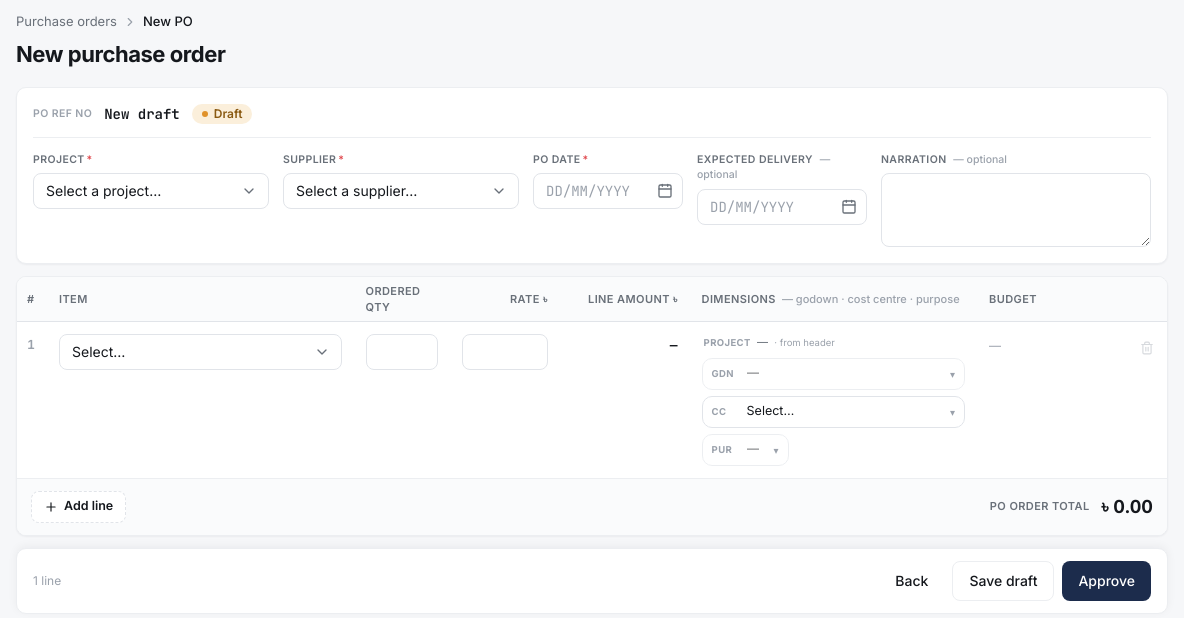
Test: PoEditor (spec §4.editor/§6/§7; FR-PUR-001/-002/-024) › live line-amount preview recomputes as qty × rate changes (spec §9)
expect the heading "New purchase order" is shown: met, box [16, 38, 226, 70]
Select "BR-04 — Bridge-04" in the dropdown with test id "po-project": x=151, y=191 [33, 173, 269, 209]
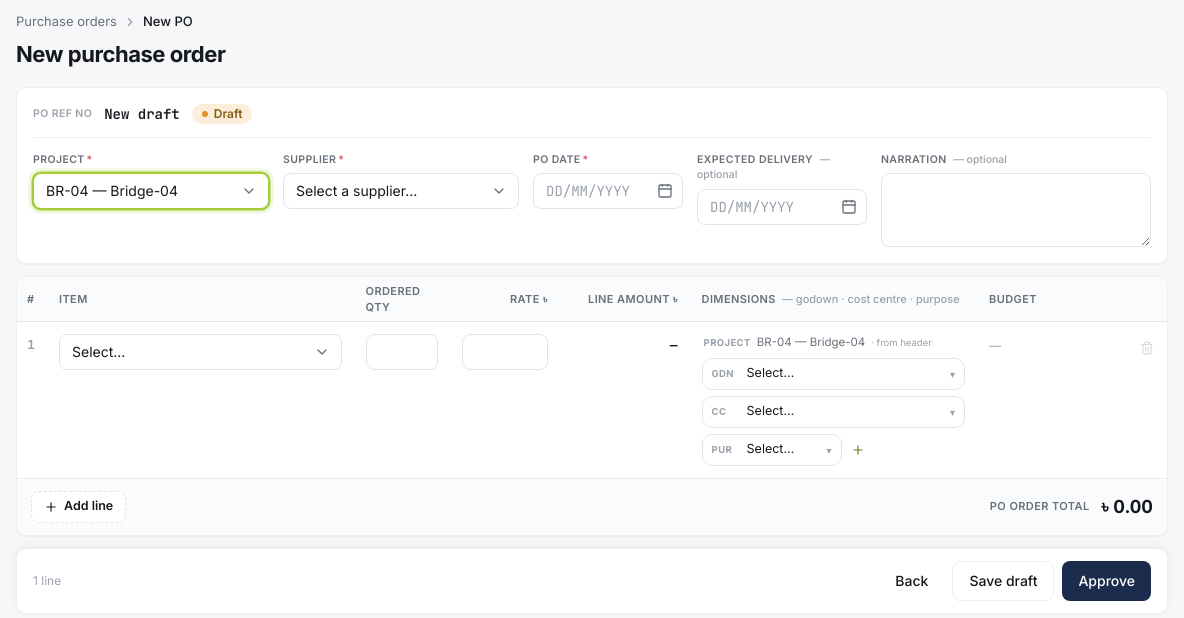
In the field with test id "po-line-qty": x=402, y=352 [366, 334, 438, 370], type "10"
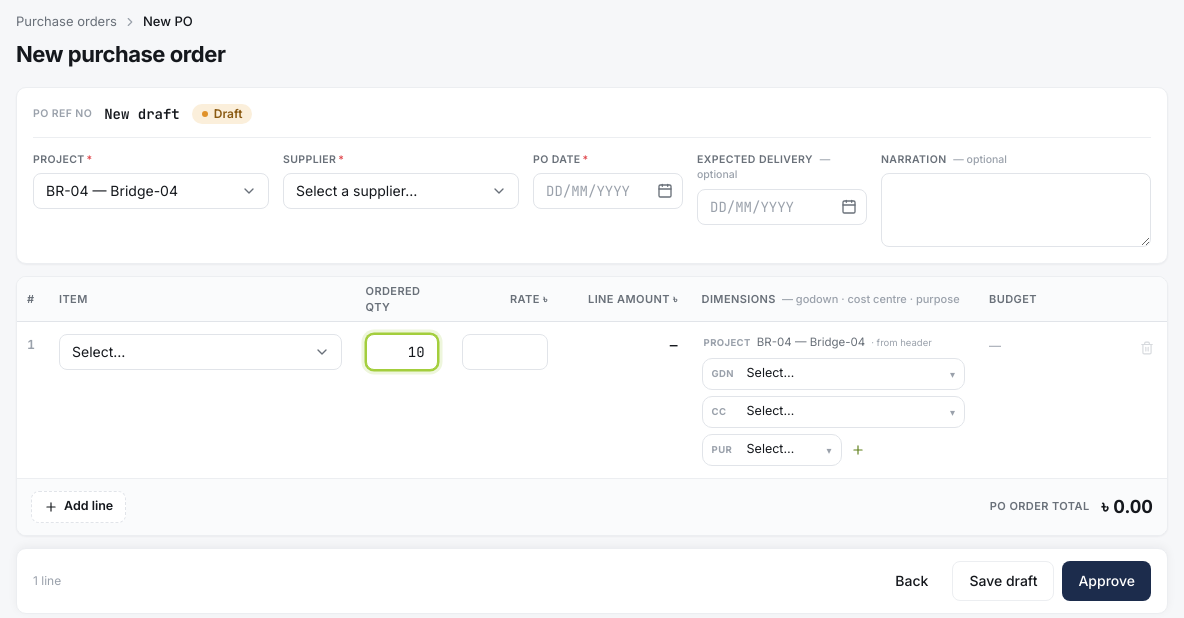
In the field with test id "po-line-rate": x=505, y=352 [462, 334, 548, 370], type "150"
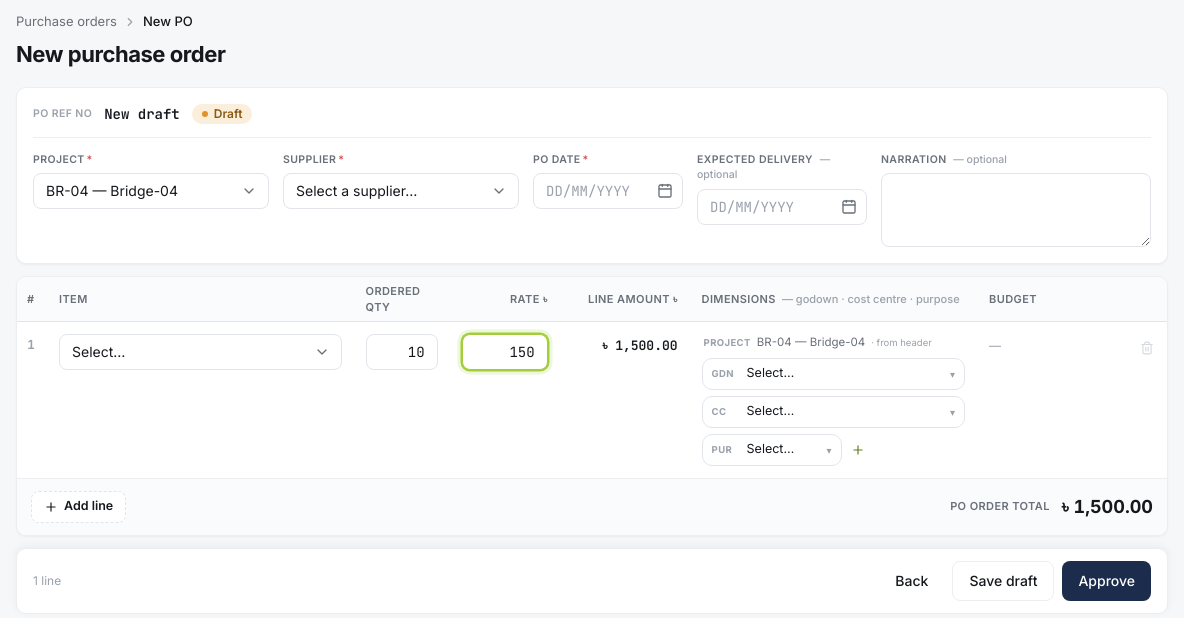
expect the text with test id "po-total" shows "1,500": met, box [1062, 496, 1153, 517]
